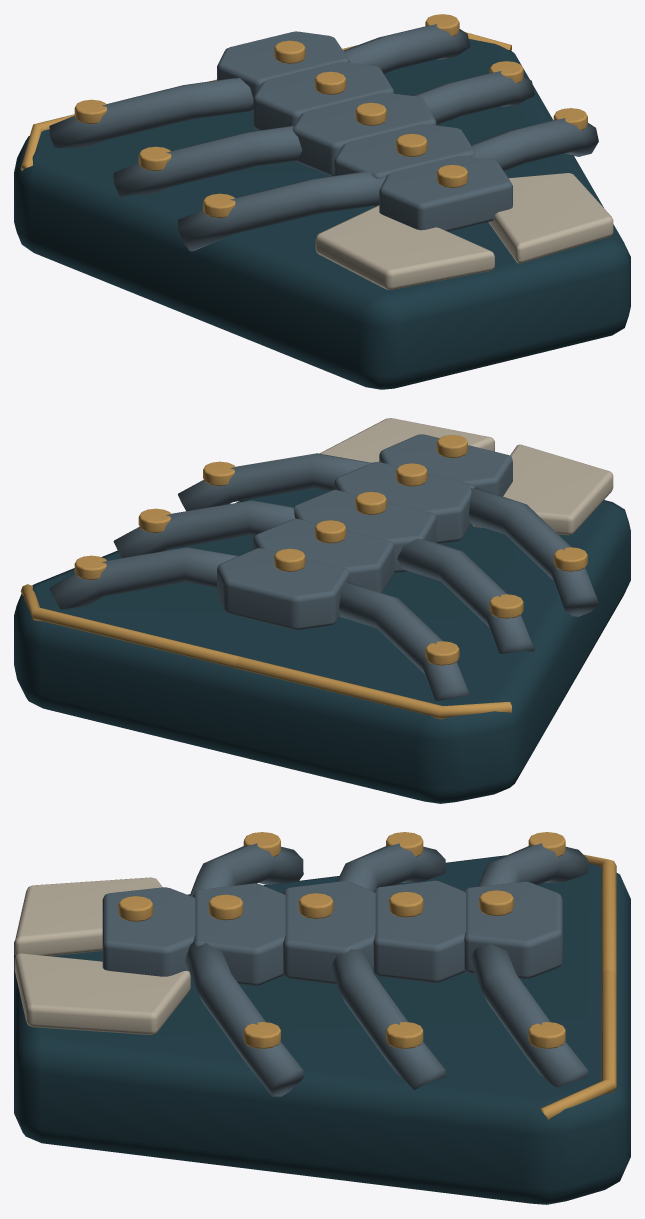
File: iron_cartilage.glb
3 views of the same model, one above another, from view 1: azimuth 30°, elevation 25°; view 2: azimuth 150°, elevation 25°; view 3: azimuth 270°, elevation 25° (orthographic). The views are drawn at different scales.
Visible parts, largest first — view 1: SM_iron_cartilage; view 2: SM_iron_cartilage; view 3: SM_iron_cartilage.
Boxes of the visible parts, x1=… form: SM_iron_cartilage: x1=14, y1=14, x2=630, y2=389; SM_iron_cartilage: x1=14, y1=418, x2=630, y2=803; SM_iron_cartilage: x1=14, y1=832, x2=630, y2=1204.
Size of the model in its own units: 0.4028 by 0.1285 by 0.39.
